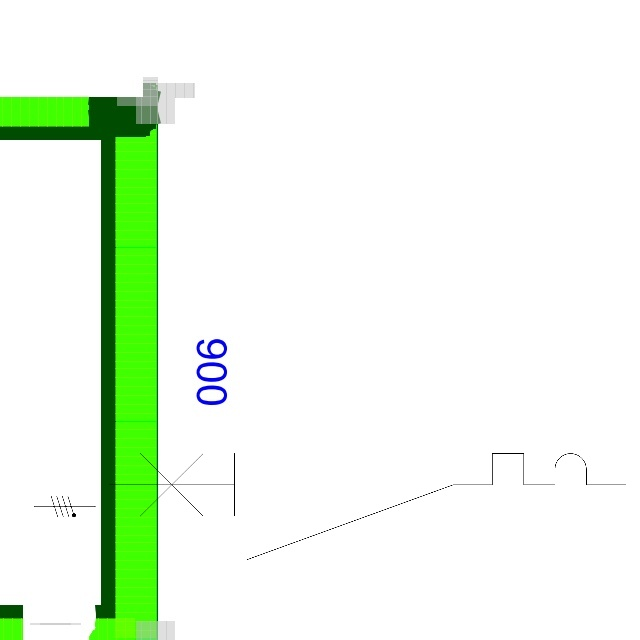interruptor_termomagnetico: (95, 440, 639, 573)
